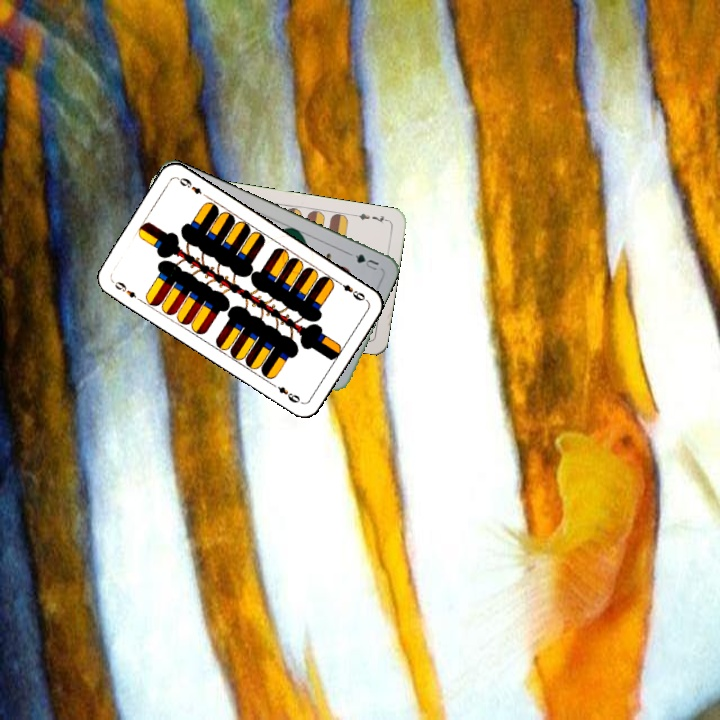E7: (350, 209, 391, 225)
E9: (333, 277, 369, 304), (108, 277, 144, 304)
GU: (351, 250, 381, 274)
